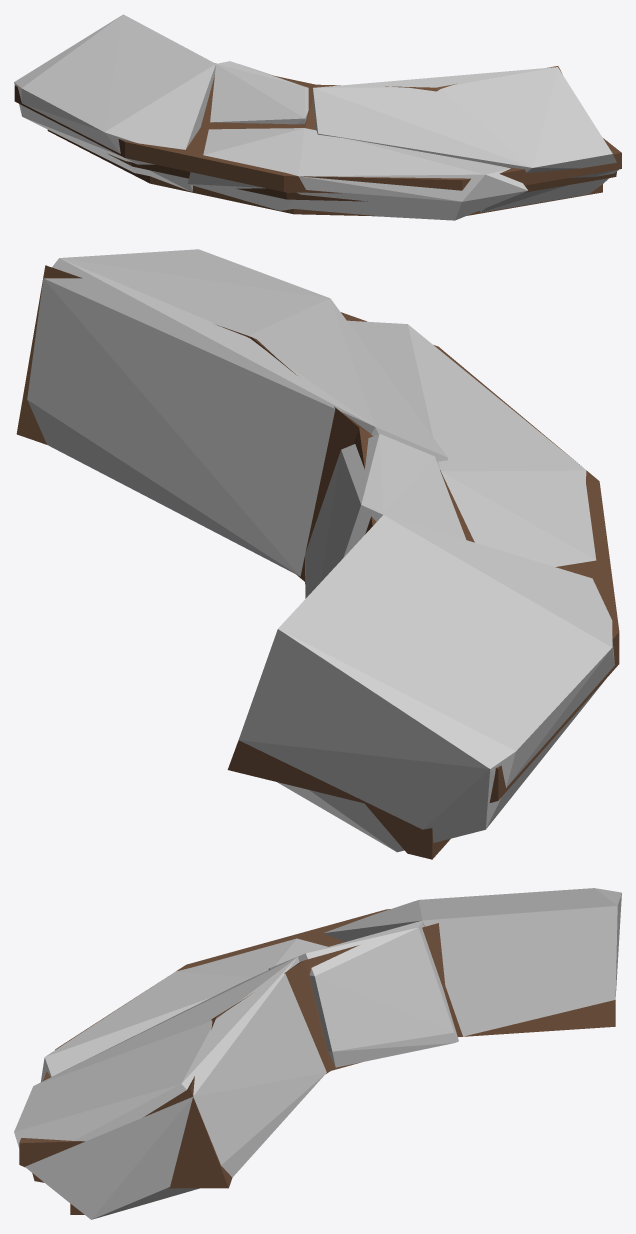
File: SM_Bld_Roof_Trim_Round_Small_01.fbx
The picture shows the model from 3 angles, top to bottom: view 1: azimuth 30°, elevation 25°; view 2: azimuth 150°, elevation 25°; view 3: azimuth 270°, elevation 25°; orthographic projection. The views are drawn at different scales.
Visible parts, largest first — view 1: SM_Bld_Roof_Trim_Round_Small_01_ConvexHulls, SM_Bld_Roof_Trim_Round_Small_01; view 2: SM_Bld_Roof_Trim_Round_Small_01_ConvexHulls, SM_Bld_Roof_Trim_Round_Small_01; view 3: SM_Bld_Roof_Trim_Round_Small_01_ConvexHulls, SM_Bld_Roof_Trim_Round_Small_01.
Part boxes in pixels (x1,y1,x2,y2): SM_Bld_Roof_Trim_Round_Small_01_ConvexHulls: [14, 14, 618, 220]; SM_Bld_Roof_Trim_Round_Small_01: [14, 63, 621, 216]; SM_Bld_Roof_Trim_Round_Small_01_ConvexHulls: [27, 249, 614, 852]; SM_Bld_Roof_Trim_Round_Small_01: [16, 265, 619, 859]; SM_Bld_Roof_Trim_Round_Small_01_ConvexHulls: [14, 888, 621, 1219]; SM_Bld_Roof_Trim_Round_Small_01: [19, 909, 615, 1214].
Bounding box in the file's own units: 167 × 169 × 41.16.
Materials: 2 (1 with a texture image).
